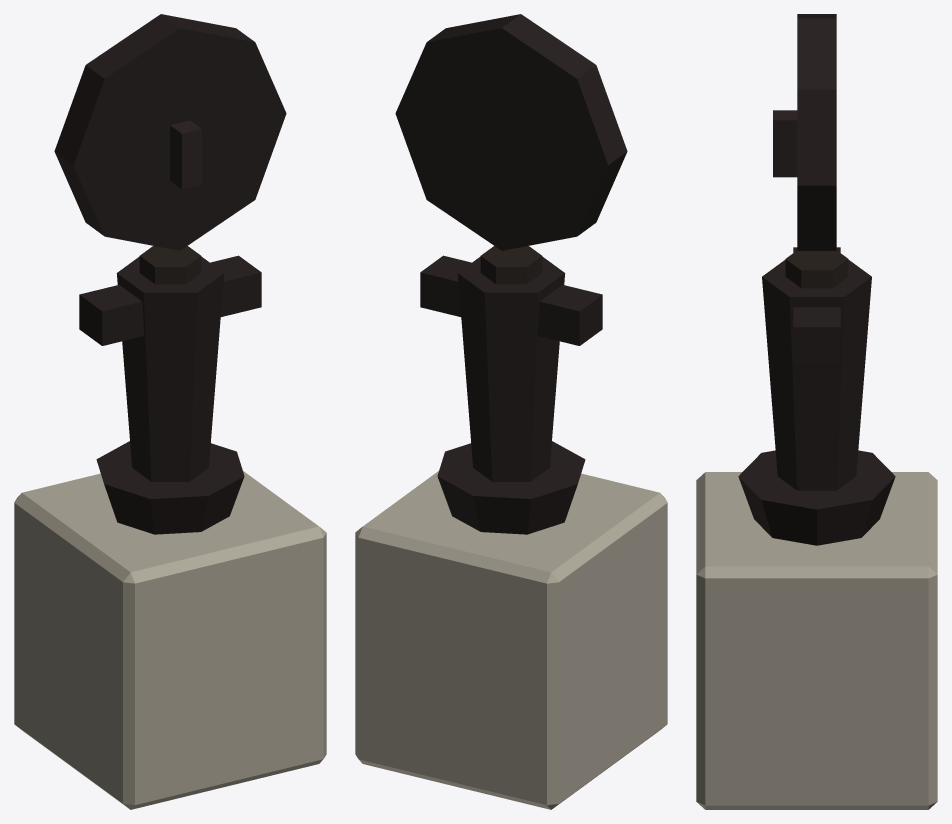
File: sculpture-20.glb
3 renders of one model, left to right at view 1: azimuth 30°, elevation 25°; view 2: azimuth 150°, elevation 25°; view 3: azimuth 270°, elevation 25°, orthographic. The views are drawn at different scales.
Visible parts, largest first — view 1: sculpture_20; view 2: sculpture_20; view 3: sculpture_20.
Boxes of the visible parts, left/top/right/bottom form: sculpture_20: left=14, top=14, right=326, bottom=809; sculpture_20: left=355, top=14, right=667, bottom=809; sculpture_20: left=696, top=14, right=937, bottom=809.
Bounding box in the file's own units: 0.1665 × 0.5425 × 0.1594.
